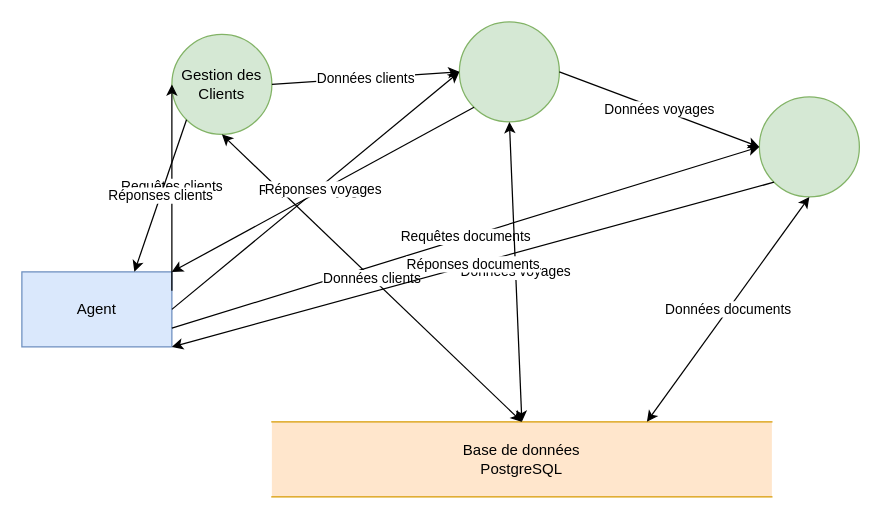
The diagram is 881 pixels wide and 519 high, and some of its shapes have lost their labels. The box of each missing label's shape, as (x1, y1, x2, y2) in pixels:
Gestion des Documents: (758, 96, 859, 197)
Gestion des Voyages: (458, 21, 559, 122)
